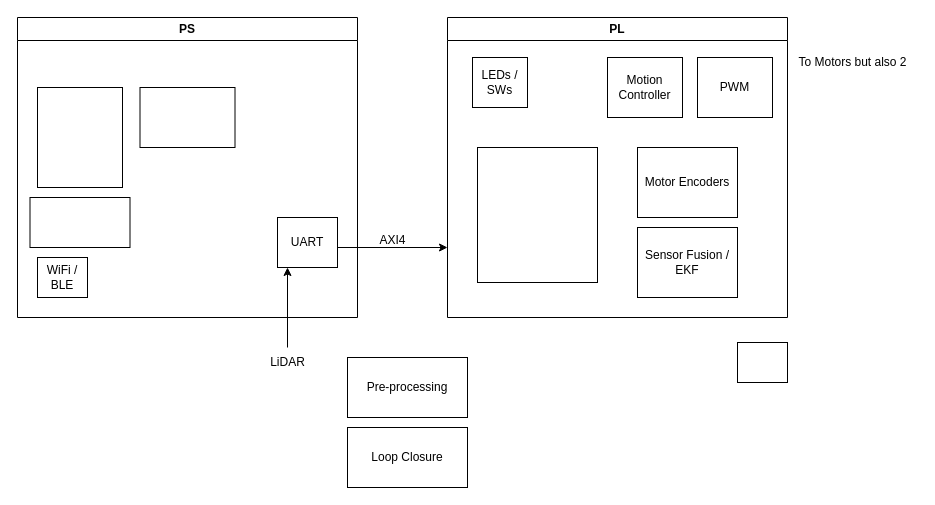
Image size: 935x505. Some labels were removed from this diagram. The centre of each missing label's shape, as x and y in pixels:
ARM Cortex A9: the point at 187,117
IMU: the point at 762,362
Mapping: the point at 79,137
Path Planning: the point at 79,222
Pose Estimation (CSM): the point at 537,214
